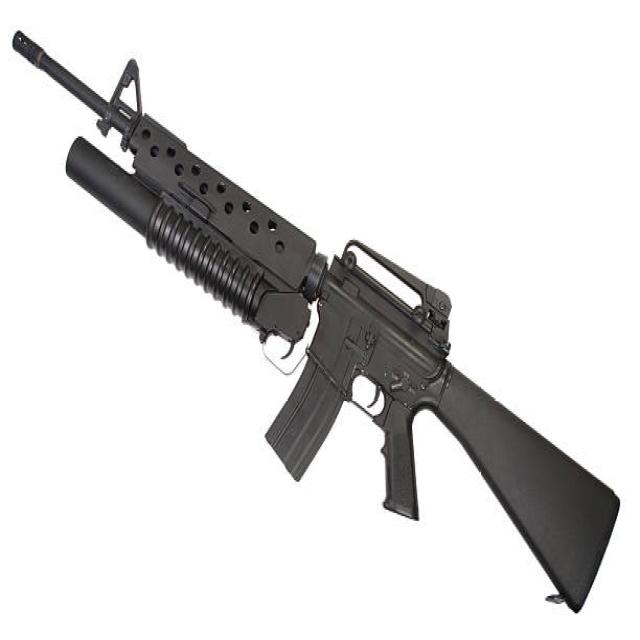rifle: (9, 19, 628, 614)
